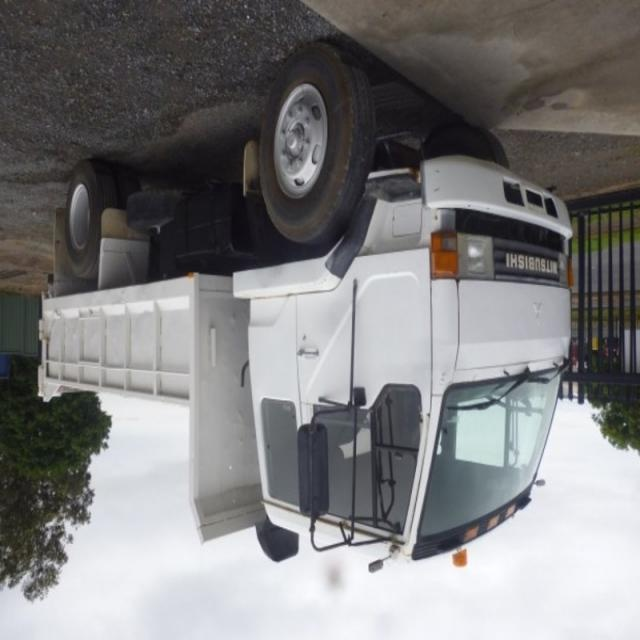Truck: (34, 56, 576, 564)
